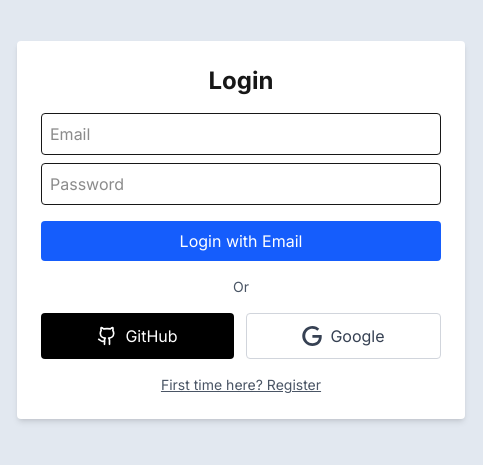
LoginClient (login page) › shows registration form when Register link is clicked
Click the text "First time here? Register": {"x": 241, "y": 384} [161, 376, 321, 393]
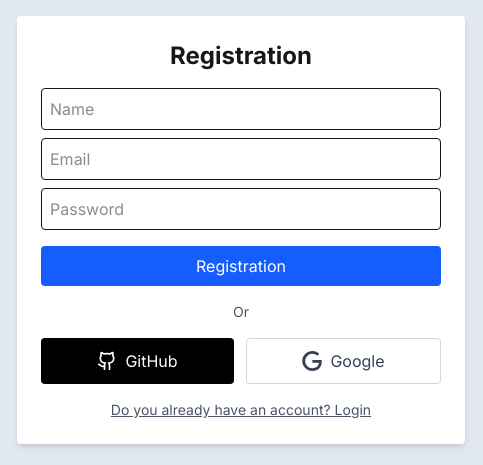
Expected: the field with placeholder "Name" is shown, [41, 88, 441, 130]
Expected: the heading "Registration" is shown, [170, 41, 312, 70]
